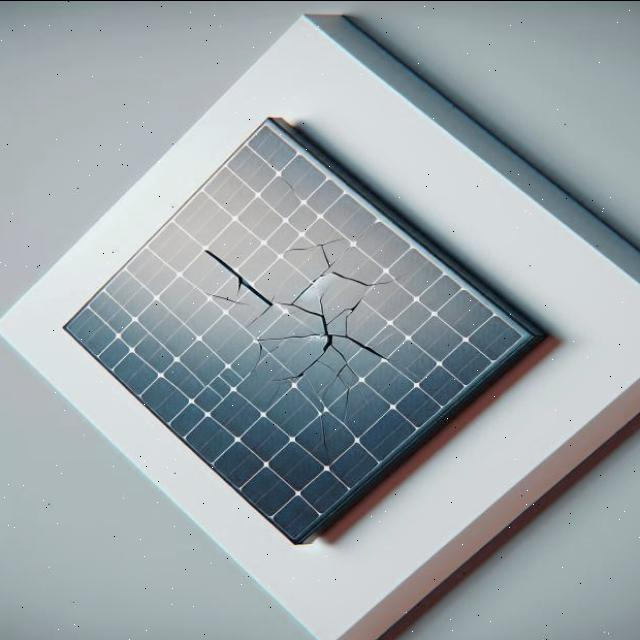Anomaly Solar Panel: (65, 100, 527, 561)
Structural Damage: (239, 255, 419, 430), (190, 232, 276, 328), (279, 234, 349, 270), (287, 268, 327, 306), (329, 267, 407, 286), (199, 288, 253, 306), (316, 412, 335, 460), (278, 170, 298, 193)
